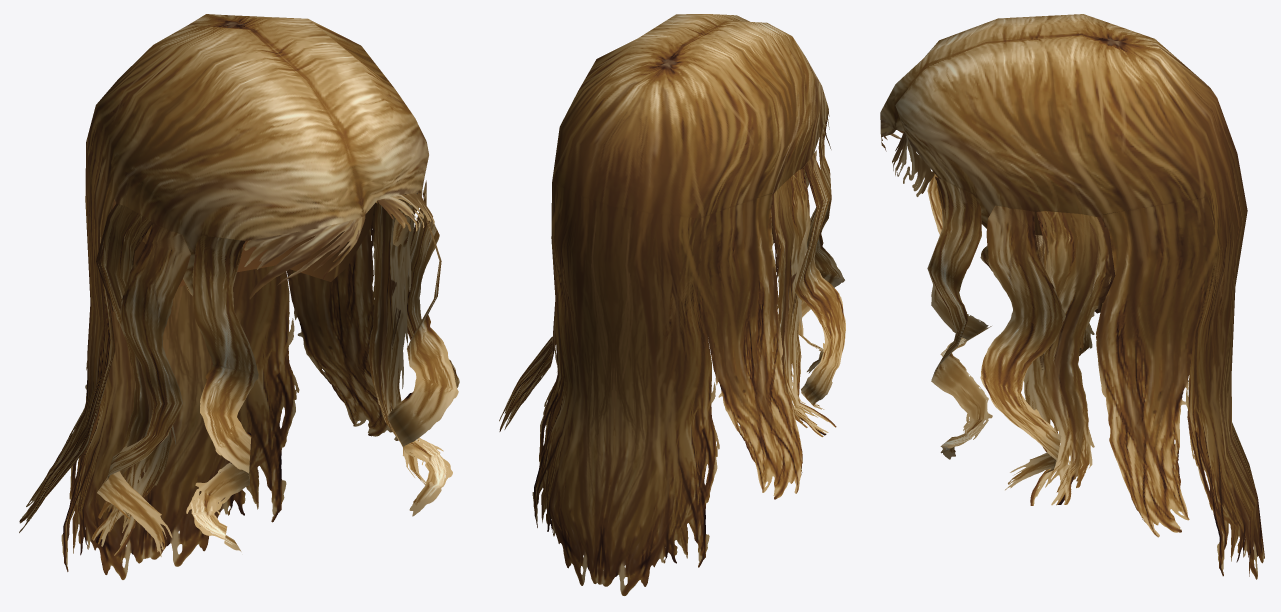
File: F_jichufaxing05.FBX
The picture shows the model from 3 angles, left to right: view 1: azimuth 30°, elevation 25°; view 2: azimuth 150°, elevation 25°; view 3: azimuth 270°, elevation 25°; orthographic projection. The views are drawn at different scales.
Visible parts, largest first — view 1: F_jichufaxing001; view 2: F_jichufaxing001; view 3: F_jichufaxing001.
Part boxes in pixels (<box>): F_jichufaxing001: <box>19,14,459,579</box>; F_jichufaxing001: <box>499,14,845,595</box>; F_jichufaxing001: <box>880,14,1264,579</box>.
Bounding box in the file's own units: 26.38 × 38.92 × 25.16.
1 material, 1 textured.
